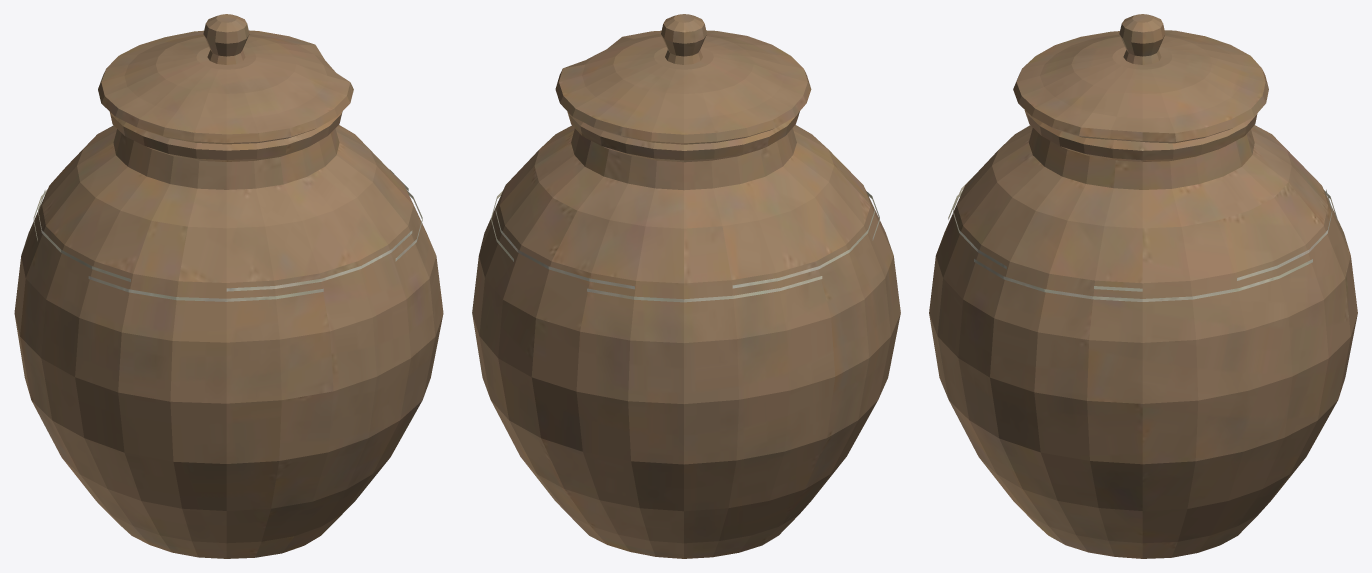
The model's file is K08_water_pot_matka.glb.
3 renders of one model, left to right at view 1: azimuth 30°, elevation 25°; view 2: azimuth 150°, elevation 25°; view 3: azimuth 270°, elevation 25°, orthographic.
Visible parts, largest first — view 1: Hand_thrown_matka; view 2: Hand_thrown_matka; view 3: Hand_thrown_matka.
Boxes of the visible parts, x1,y1,x2,y2 form: Hand_thrown_matka: [14, 14, 443, 558]; Hand_thrown_matka: [472, 14, 900, 558]; Hand_thrown_matka: [929, 14, 1357, 558].
Size of the model in its own units: 0.3875 by 0.5 by 0.3875.
Materials: 3 (3 with a texture image).
